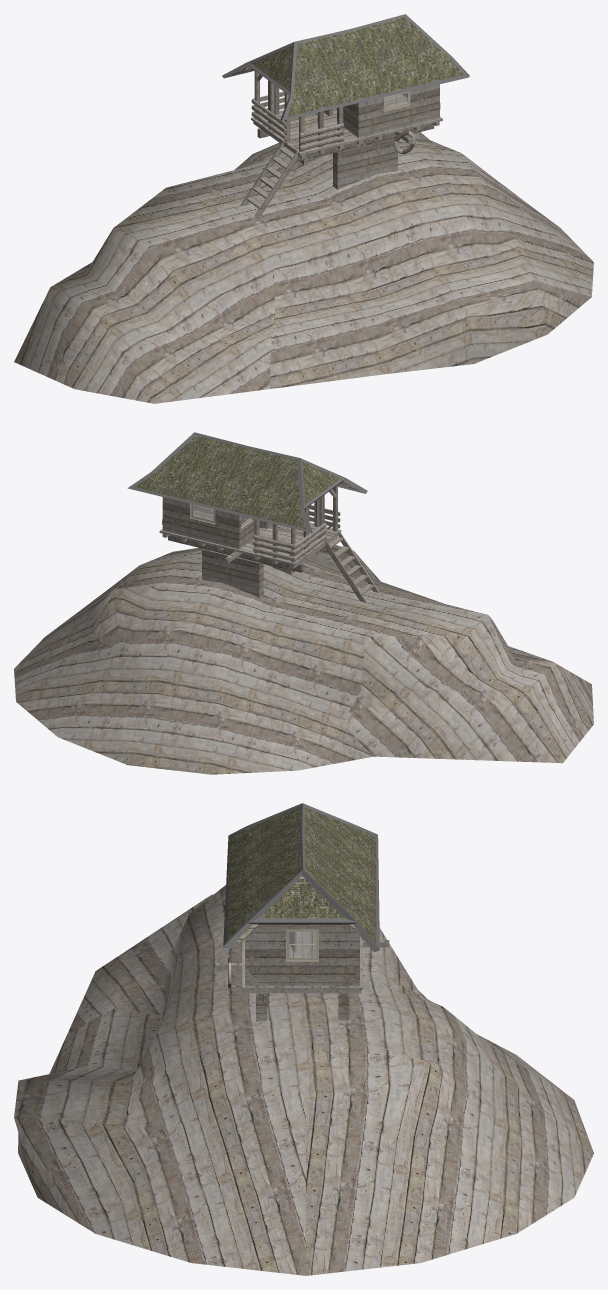
Rendered from huthuthut.fbx.
The picture shows the model from 3 angles, top to bottom: view 1: azimuth 30°, elevation 25°; view 2: azimuth 150°, elevation 25°; view 3: azimuth 270°, elevation 25°; orthographic projection. The views are drawn at different scales.
Parts seen in each view (by area): view 1: model; view 2: model; view 3: model.
Boxes of the visible parts, box(x1,y1,x2,y2) form: model: box(14, 14, 593, 403); model: box(14, 432, 593, 774); model: box(14, 803, 593, 1275).
Size of the model in its own units: 2835 by 1255 by 2114.
5 materials, 3 textured.
